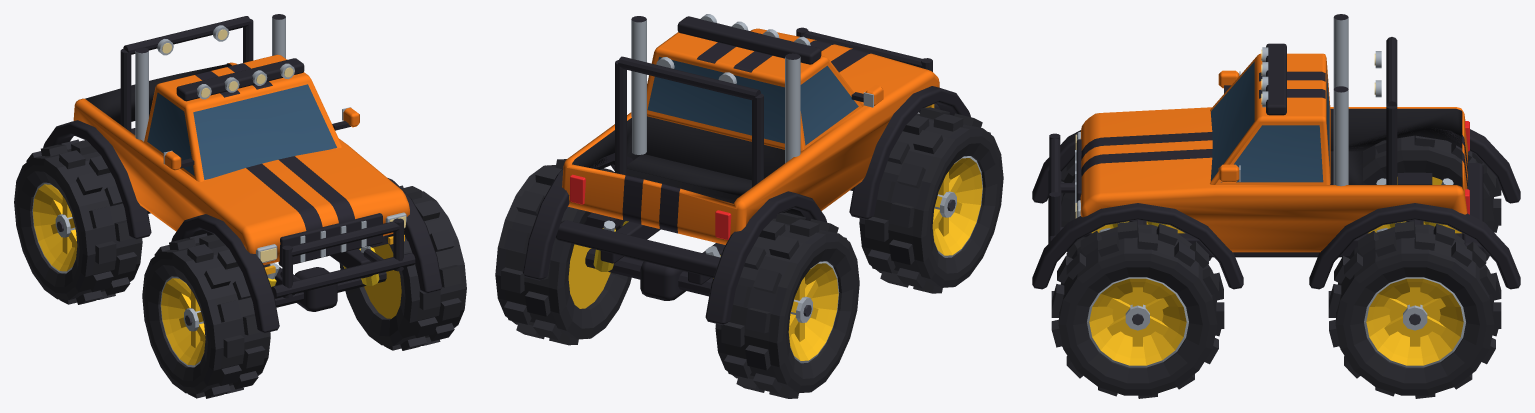
3 views of the same model, side by side, from view 1: azimuth 30°, elevation 25°; view 2: azimuth 150°, elevation 25°; view 3: azimuth 270°, elevation 25° (orthographic). The views are drawn at different scales.
Visible parts, largest first — view 1: monster_body, wheel_FR, wheel_RR, wheel_FL; view 2: monster_body, wheel_FR, wheel_RR, wheel_RL; view 3: monster_body, wheel_FL, wheel_RL, wheel_RR, wheel_FR.
Boxes of the visible parts, box(x1,y1,x2,y2) form: monster_body: box(43, 14, 442, 333); wheel_FR: box(142, 233, 270, 398); wheel_RR: box(14, 139, 142, 304); wheel_FL: box(339, 185, 466, 350); monster_body: box(522, 14, 970, 325); wheel_FR: box(859, 107, 1003, 293); wheel_RR: box(715, 212, 859, 398); wheel_RL: box(495, 159, 631, 345); monster_body: box(1032, 14, 1520, 289); wheel_FL: box(1051, 221, 1224, 398); wheel_RL: box(1328, 221, 1501, 398); wheel_RR: box(1347, 135, 1501, 260); wheel_FR: box(1061, 157, 1211, 260).
Bounding box in the file's own units: 2.74 × 2.71 × 4.23.
Materials: 1 (1 with a texture image).
